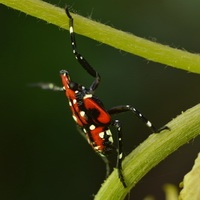insect: (60, 7, 156, 187)
